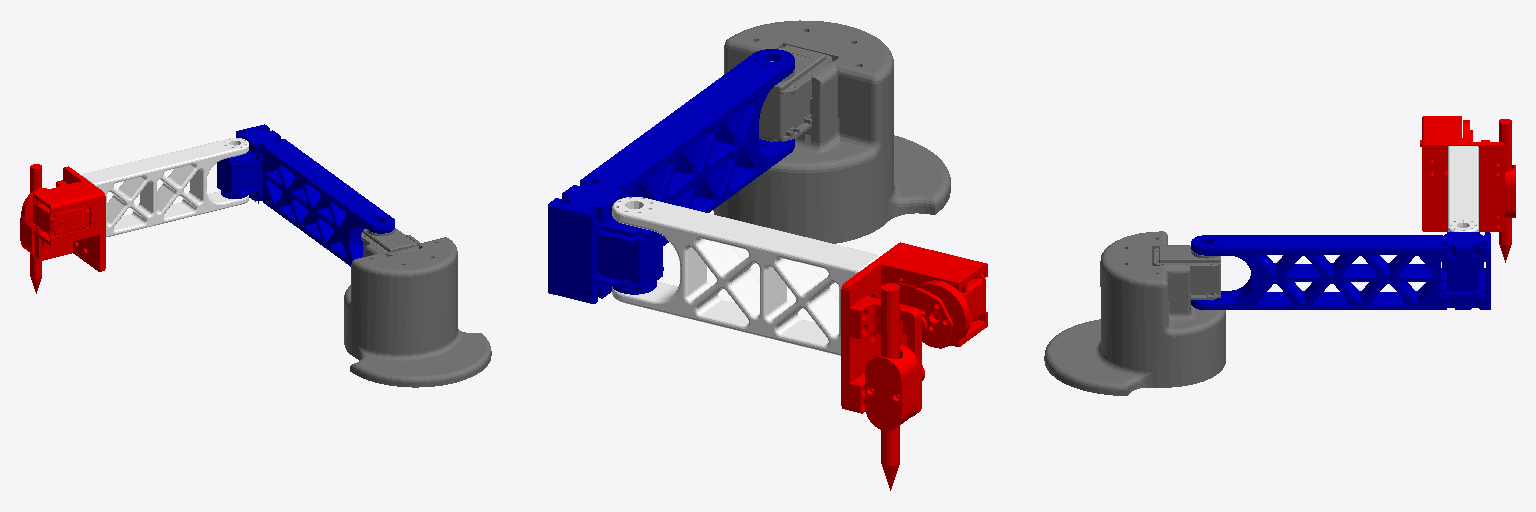
robot.urdf — three_link_robot:
<?xml version="1.0"?>
<robot name="three_link_robot">

  <link name="world"/>

  <joint name="world_to_base_joint" type="fixed">
    <parent link="world"/>
    <child link="base_link"/>
    <origin xyz="0 0 0" rpy="0 0 0"/>
  </joint>


  <link name="base_link">
    <visual>
      <geometry>
        <mesh filename="package://pr_robotics/scripts/urdf/meshes/base_link.STL"/>
      </geometry>
      <material name="grey">
        <color rgba="0.5 0.5 0.5 1"/>
      </material>
    </visual>
    <collision>
      <geometry>
        <mesh filename="package://pr_robotics/scripts/urdf/meshes/base_link.STL"/>
      </geometry>
    </collision>
    <inertial>
      <mass value="1"/>
      <inertia ixx="0.01" ixy="0" ixz="0" iyy="0.01" iyz="0" izz="0.01"/>
    </inertial>
  </link>

  <link name="link1">
    <visual>
      <geometry>
        <mesh filename="package://pr_robotics/scripts/urdf/meshes/link1.STL"/>
      </geometry>
      <material name="blue">
        <color rgba="0 0 0.8 1"/>
      </material>
    </visual>
    <collision>
      <geometry>
        <mesh filename="package://pr_robotics/scripts/urdf/meshes/link1.STL"/>
      </geometry>
    </collision>
    <inertial>
      <mass value="1"/>
      <inertia ixx="0.01" ixy="0" ixz="0" iyy="0.01" iyz="0" izz="0.01"/>
    </inertial>
  </link>

  <link name="link2">
    <visual>
      <geometry>
        <mesh filename="package://pr_robotics/scripts/urdf/meshes/link2.STL"/>
      </geometry>
      <material name="white">
        <color rgba="1 1 1 1"/>
      </material>
    </visual>
    <collision>
      <geometry>
        <mesh filename="package://pr_robotics/scripts/urdf/meshes/link2.STL"/>
      </geometry>
    </collision>
    <inertial>
      <mass value="1"/>
      <inertia ixx="0.01" ixy="0" ixz="0" iyy="0.01" iyz="0" izz="0.01"/>
    </inertial>
  </link>

  <link name="end_effector_link">
    <visual>
      <geometry>
        <mesh filename="package://pr_robotics/scripts/urdf/meshes/z_link.STL"/>
      </geometry>
       <material name="red">
        <color rgba="1 0 0 1"/>
      </material>
    </visual>
    <collision>
      <geometry>
        <mesh filename="package://pr_robotics/scripts/urdf/meshes/z_link.STL"/>
      </geometry>
    </collision>
    <inertial>
      <mass value="0.1"/>
      <inertia ixx="0.001" ixy="0" ixz="0" iyy="0.001" iyz="0" izz="0.001"/>
    </inertial>
  </link>


  <joint name="joint1" type="revolute">
    <parent link="base_link"/>
    <child link="link1"/>
    <origin xyz="0.0011 0.07051 0.11867" rpy="0 0 0"/>
    <axis xyz="0 0 1"/>
    <limit lower="-1.5" upper="1.5" effort="10000" velocity="1"/>
  </joint>

  <joint name="joint2" type="revolute">
    <parent link="link1"/>
    <child link="link2"/>
    <origin xyz="-0.0341 0.230 0.0" rpy="0 0 1.5708"/>
    <axis xyz="0 0 1"/>
    <limit lower="-1.5" upper="1.5" effort="10000" velocity="1"/>
  </joint>

  <joint name="joint3" type="prismatic">
    <parent link="link2"/>
    <child link="end_effector_link"/>
    <origin xyz=" 0.0 0.170 -0.03106" rpy="0 0 0"/>
    <axis xyz="0 0 1"/>
    <limit lower="0.0" upper="0.3" effort="10000" velocity="1"/>
  </joint>


   <transmission name="tran1">
    <type>transmission_interface/SimpleTransmission</type>
    <joint name="joint1">
      <hardwareInterface>hardware_interface/PositionJointInterface</hardwareInterface>
    </joint>
    <actuator name="motor1">
      <hardwareInterface>hardware_interface/PositionJointInterface</hardwareInterface>
      <mechanicalReduction>1</mechanicalReduction>
    </actuator>
  </transmission>
  <transmission name="tran2">
    <type>transmission_interface/SimpleTransmission</type>
    <joint name="joint2">
      <hardwareInterface>hardware_interface/PositionJointInterface</hardwareInterface>
    </joint>
    <actuator name="motor2">
      <hardwareInterface>hardware_interface/PositionJointInterface</hardwareInterface>
      <mechanicalReduction>1</mechanicalReduction>
    </actuator>
  </transmission>
  <transmission name="tran3">
    <type>transmission_interface/SimpleTransmission</type>
    <joint name="joint3">
      <hardwareInterface>hardware_interface/PositionJointInterface</hardwareInterface>
    </joint>
    <actuator name="motor3">
      <hardwareInterface>hardware_interface/PositionJointInterface</hardwareInterface>
      <mechanicalReduction>1</mechanicalReduction>
    </actuator>
  </transmission>

  <gazebo>
    <plugin name="gazebo_ros_control" filename="libgazebo_ros_control.so">
      <robotNamespace>/</robotNamespace>
    </plugin>
  </gazebo>
</robot>

--- What the picture shows (computed from the rendered views, not written in the file) ---
Views: 3 orthographic renders of the robot side by side, from view 1: azimuth 30°, elevation 25°; view 2: azimuth 150°, elevation 25°; view 3: azimuth 270°, elevation 25°.
Robot: three_link_robot — 5 links, 4 joints (2 revolute, 1 prismatic, 1 fixed); root link world; default pose: every joint at zero.
Links seen in each view (by area): view 1: base_link, link1, link2, end_effector_link; view 2: base_link, link1, link2, end_effector_link; view 3: base_link, link1, end_effector_link, link2.
Boxes of the visible links, <box> form: base_link: <box>344,228,491,387</box>; link1: <box>217,124,394,266</box>; link2: <box>81,138,248,236</box>; end_effector_link: <box>20,164,105,293</box>; base_link: <box>713,20,950,243</box>; link1: <box>548,49,794,303</box>; link2: <box>612,197,879,355</box>; end_effector_link: <box>841,242,987,490</box>; base_link: <box>1044,231,1225,395</box>; link1: <box>1191,232,1490,309</box>; end_effector_link: <box>1420,116,1515,262</box>; link2: <box>1448,146,1478,231</box>.
Size in the robot's own frame: 0.3491 by 0.4225 by 0.14 metres.
Meshes: 4 distinct files referenced, 4 mesh visuals loaded (4 binary STL).
